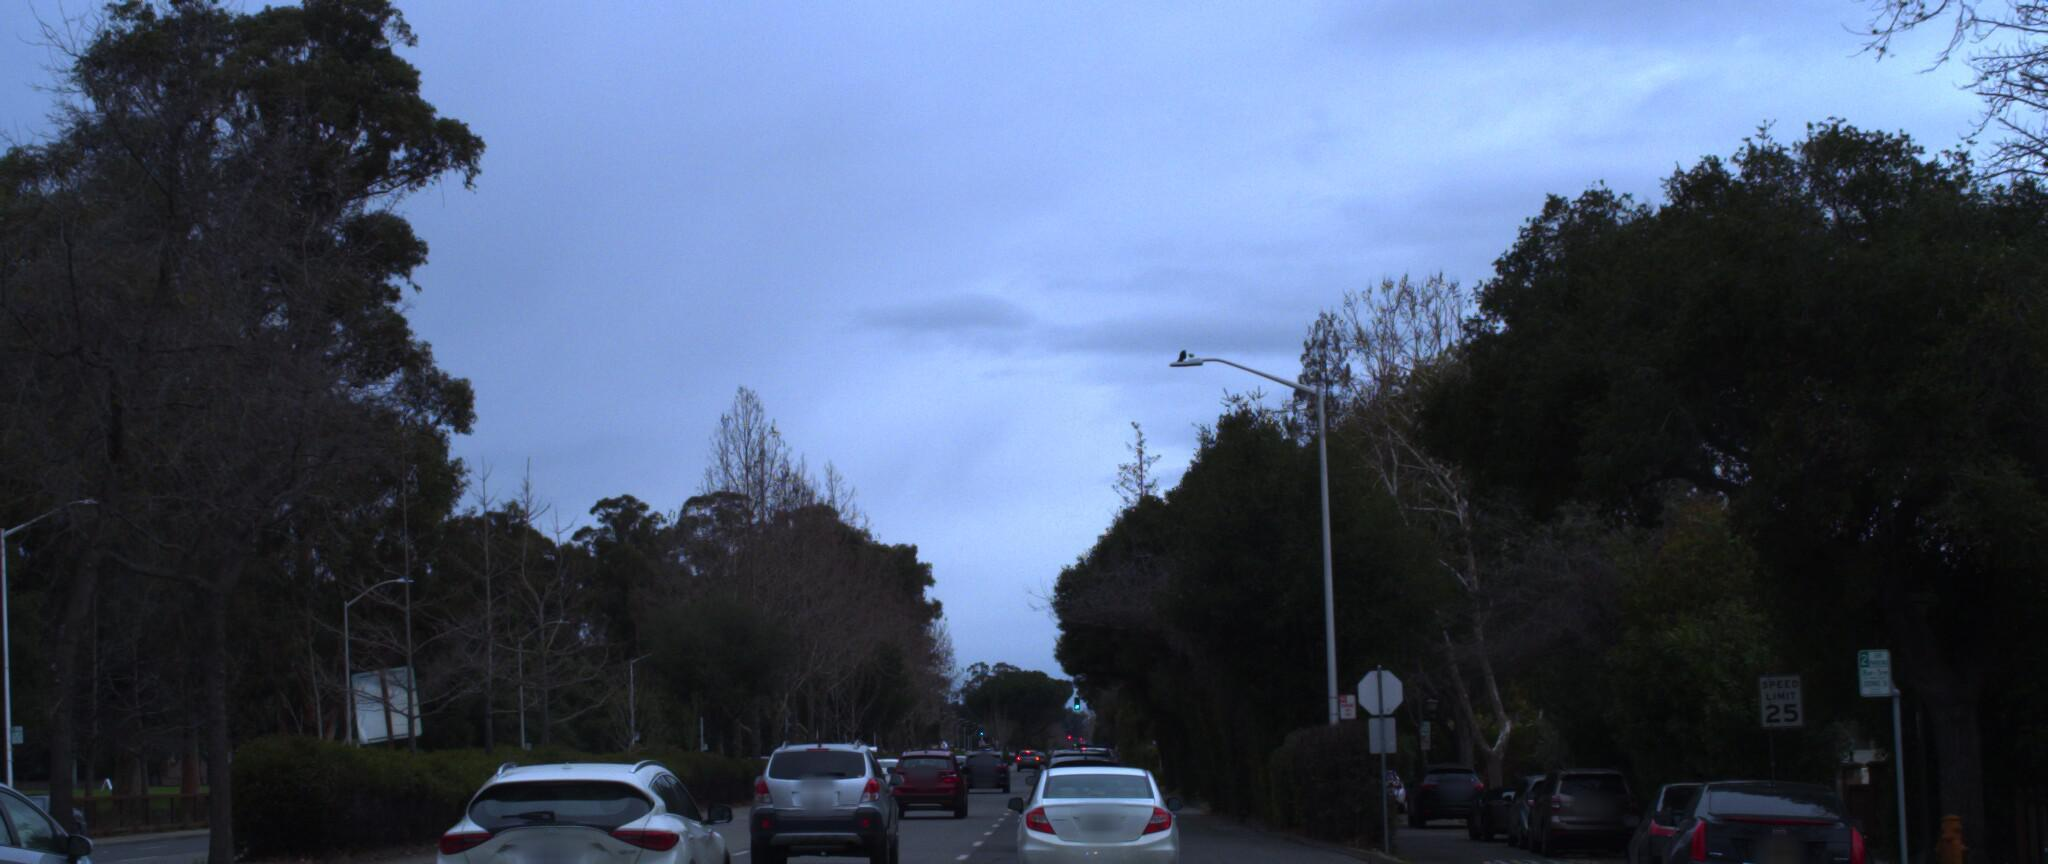car: (430, 750, 748, 864), (1638, 754, 1874, 864), (742, 730, 904, 864), (1620, 760, 1819, 864), (1014, 752, 1181, 864), (0, 762, 157, 864), (1505, 748, 1640, 848), (886, 731, 970, 808), (1396, 748, 1479, 818)
